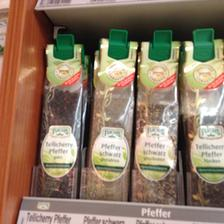Gewuerze: (83, 38, 137, 196), (133, 40, 179, 204), (182, 38, 222, 205), (43, 41, 81, 199)
